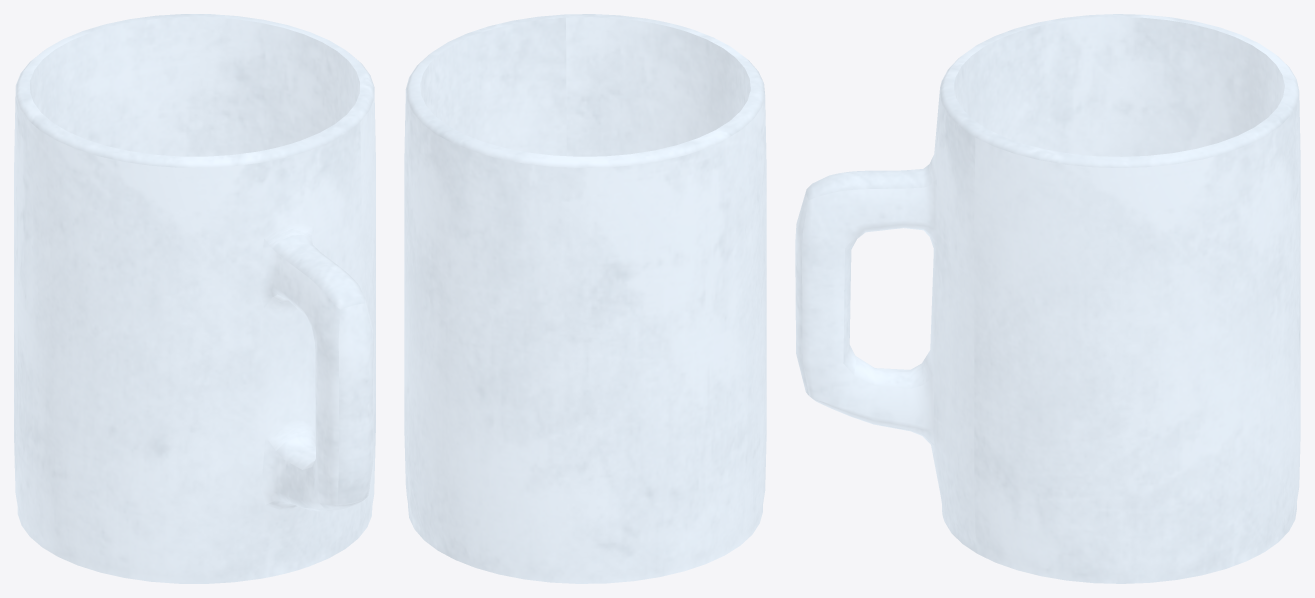
The model's file is SM_MugBlack.fbx.
3 views of the same model, side by side, from view 1: azimuth 30°, elevation 25°; view 2: azimuth 150°, elevation 25°; view 3: azimuth 270°, elevation 25° (orthographic).
Parts seen in each view (by area): view 1: SM_MugBlack_LOD0; view 2: SM_MugBlack_LOD0; view 3: SM_MugBlack_LOD0.
Part boxes in pixels (x1,y1,x2,y2): SM_MugBlack_LOD0: (14, 14, 375, 583); SM_MugBlack_LOD0: (404, 14, 766, 583); SM_MugBlack_LOD0: (795, 14, 1300, 583).
Size of the model in its own units: 7.96 by 11.1 by 10.41.
Materials: 1 (1 with a texture image).
